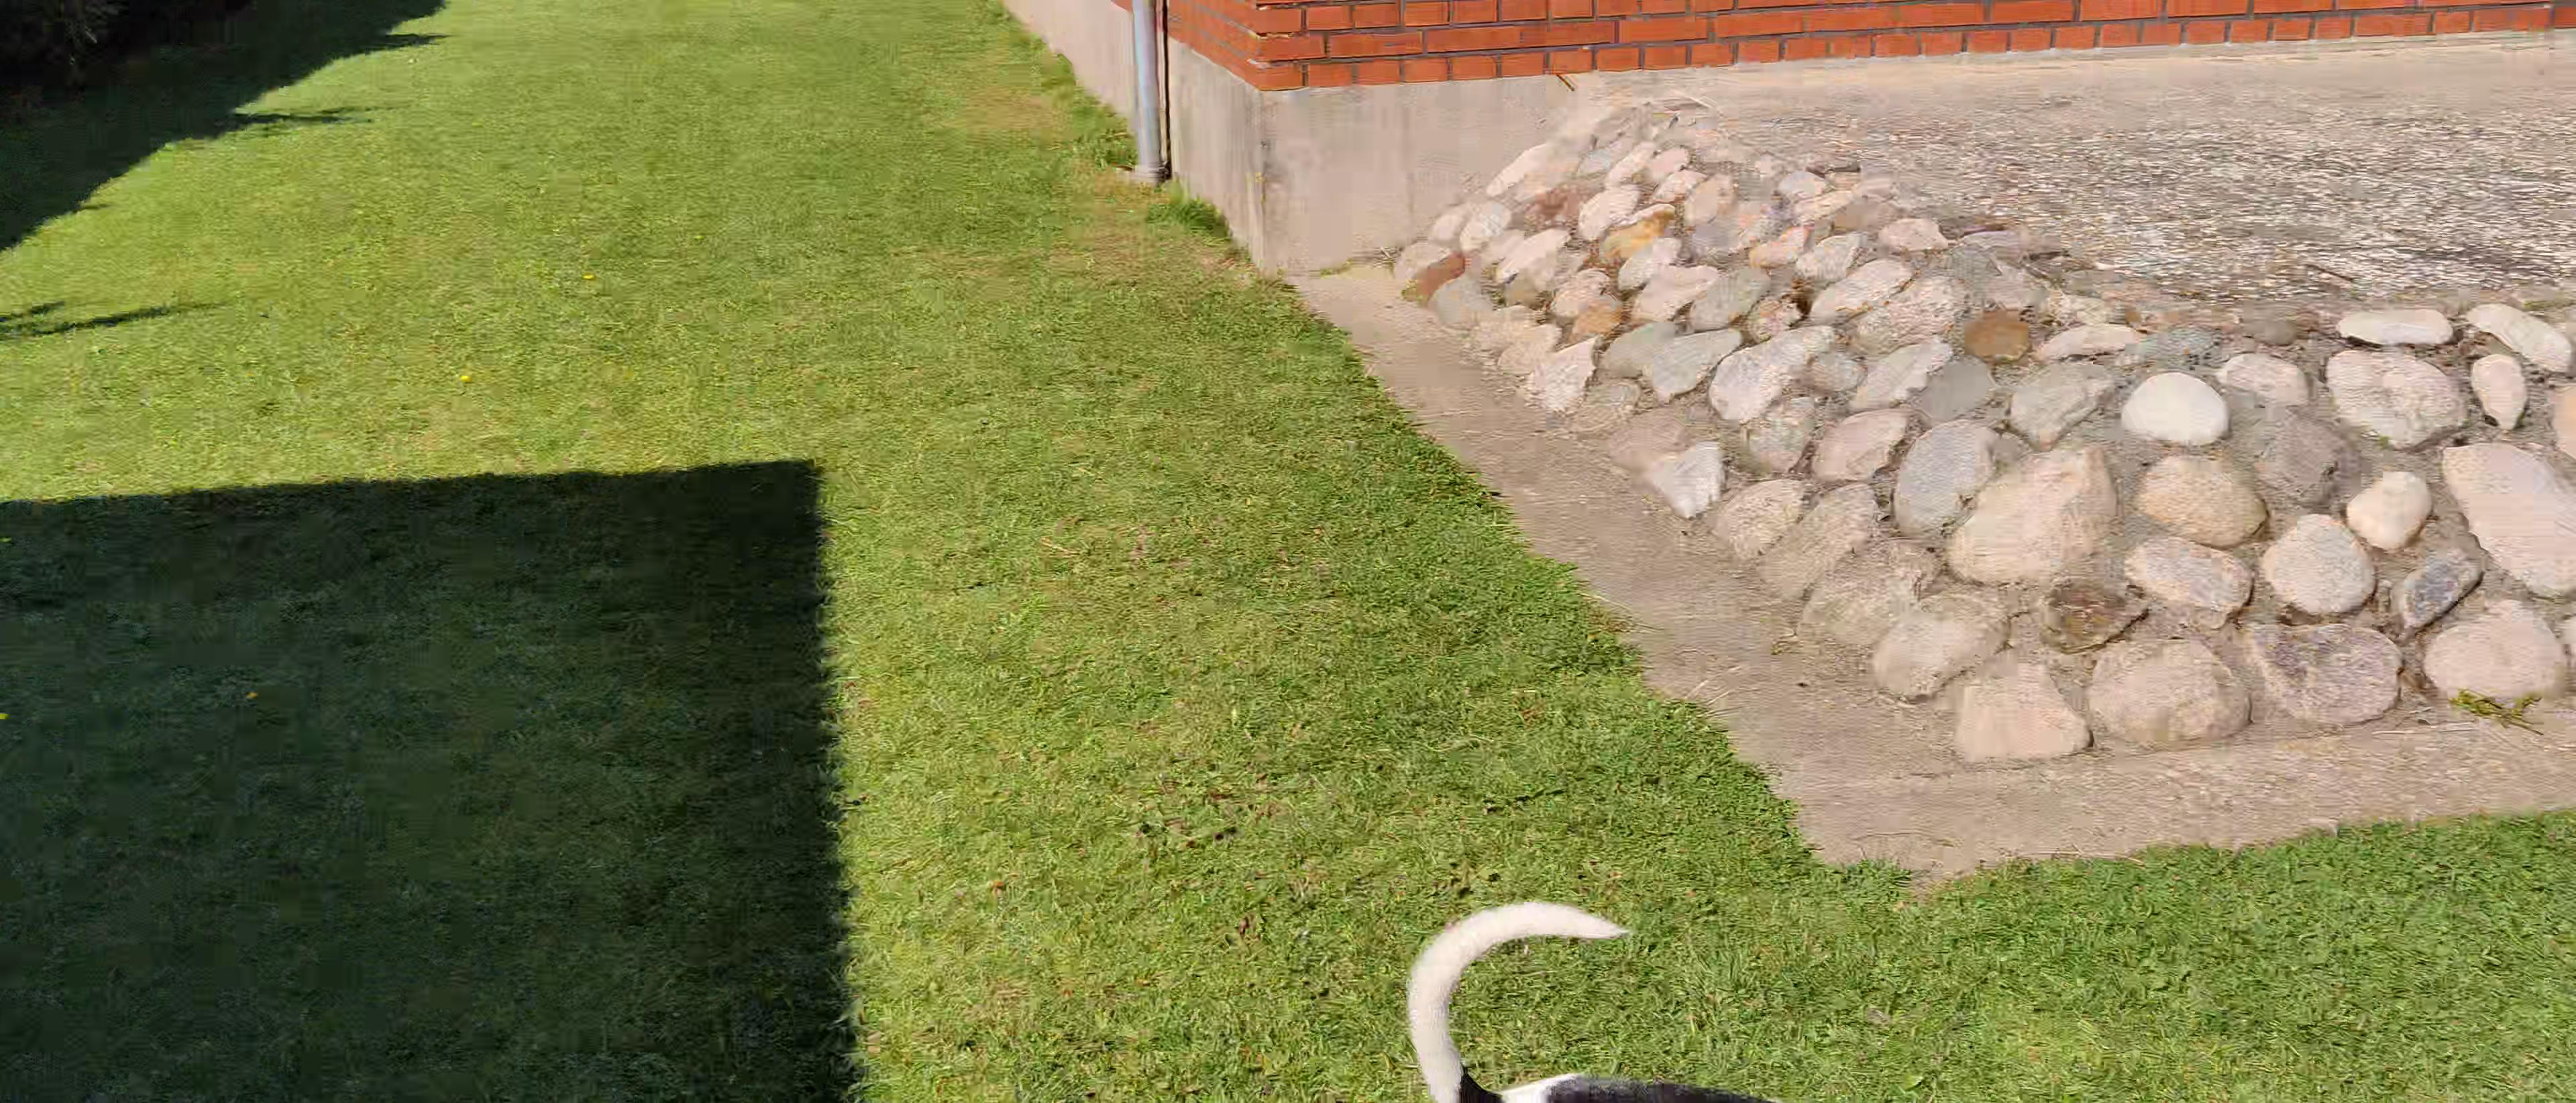Dog: (1398, 896, 1805, 1103)
